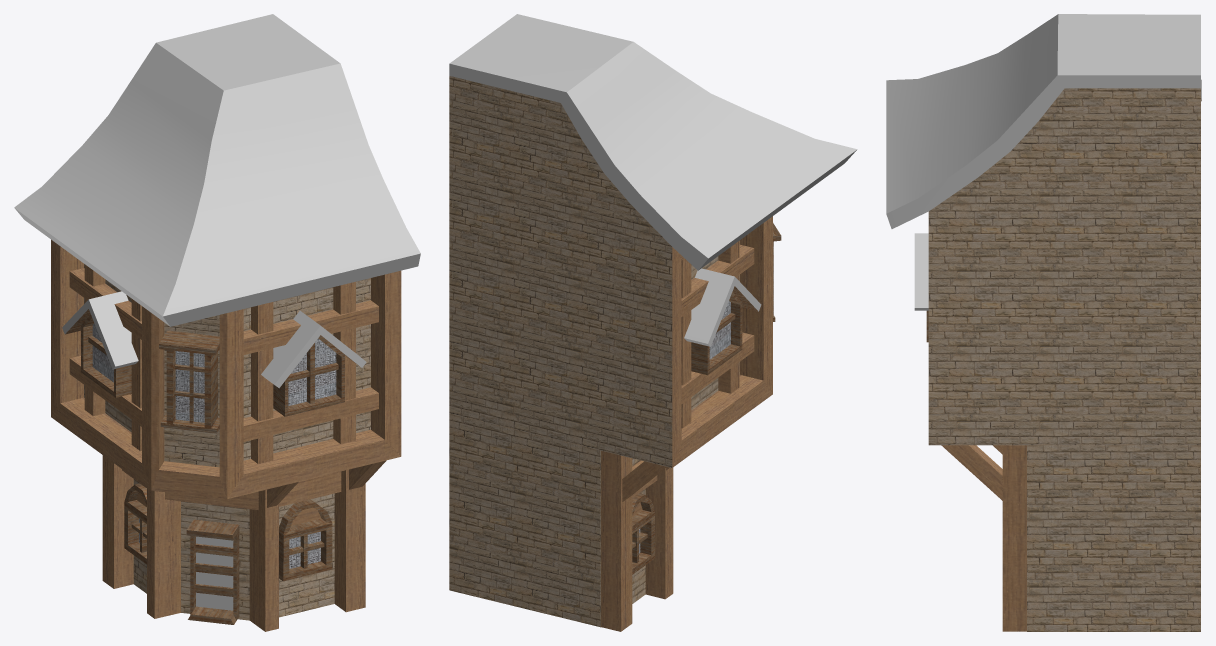
Rendered from townhouse_corner1.fbx.
3 views of the same model, side by side, from view 1: azimuth 30°, elevation 25°; view 2: azimuth 150°, elevation 25°; view 3: azimuth 270°, elevation 25° (orthographic). The views are drawn at different scales.
Visible parts, largest first — view 1: CornerHouse; view 2: CornerHouse; view 3: CornerHouse.
Boxes of the visible parts, <box> form: CornerHouse: <box>14,14,420,631</box>; CornerHouse: <box>449,14,857,631</box>; CornerHouse: <box>886,14,1201,631</box>.
Size of the model in its own units: 34.92 by 67.86 by 34.79.
